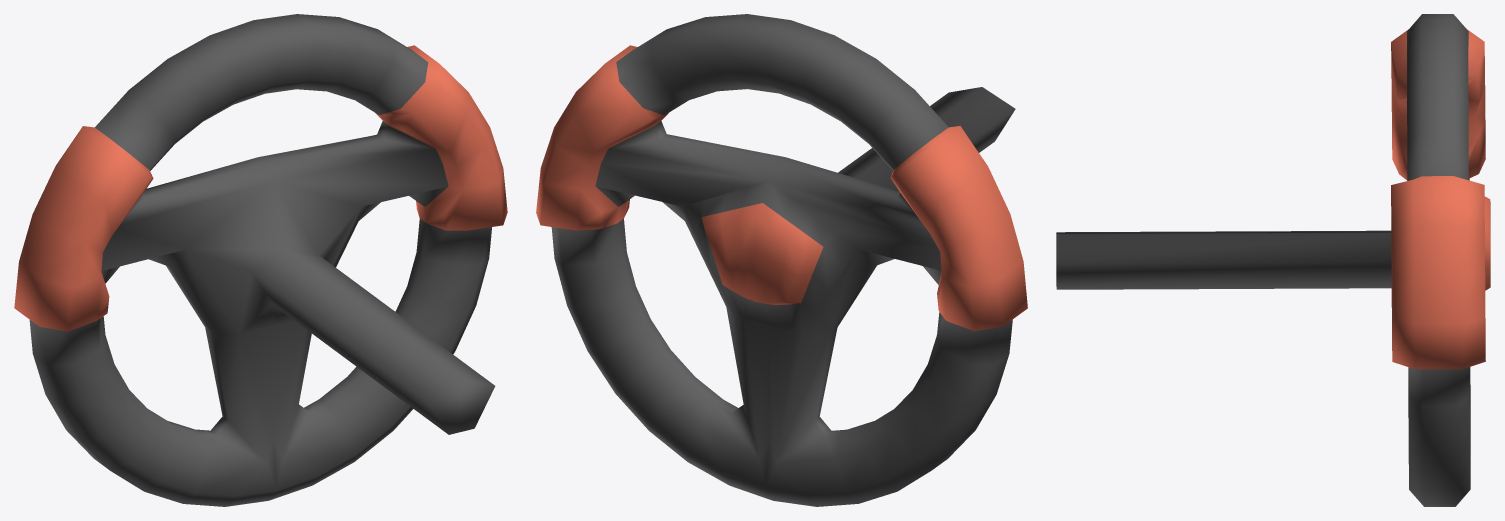
The model's file is steering wheel.glb.
3 renders of one model, left to right at view 1: azimuth 30°, elevation 25°; view 2: azimuth 150°, elevation 25°; view 3: azimuth 270°, elevation 25°, orthographic. The views are drawn at different scales.
Parts seen in each view (by area): view 1: steering wheel; view 2: steering wheel; view 3: steering wheel.
Part boxes in pixels (x1,y1,x2,y2): steering wheel: [14, 14, 507, 506]; steering wheel: [536, 14, 1027, 506]; steering wheel: [1056, 14, 1490, 506].
Bounding box in the file's own units: 0.4537 × 0.4348 × 0.3828.
